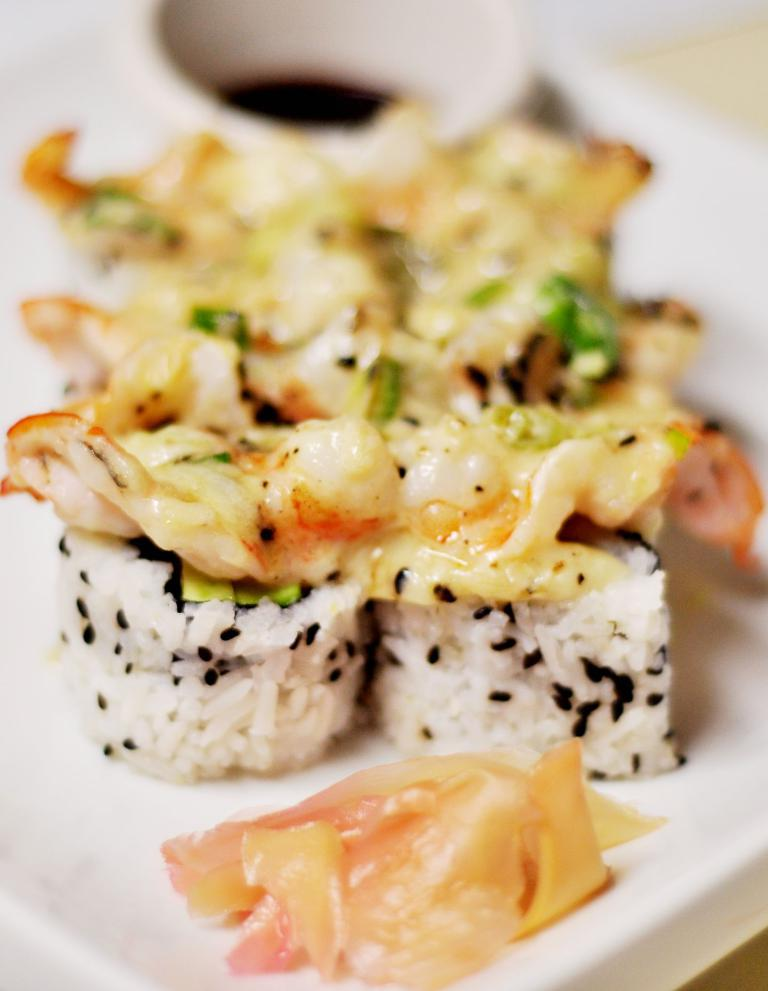sushi: (0, 82, 767, 785), (0, 429, 409, 787)
